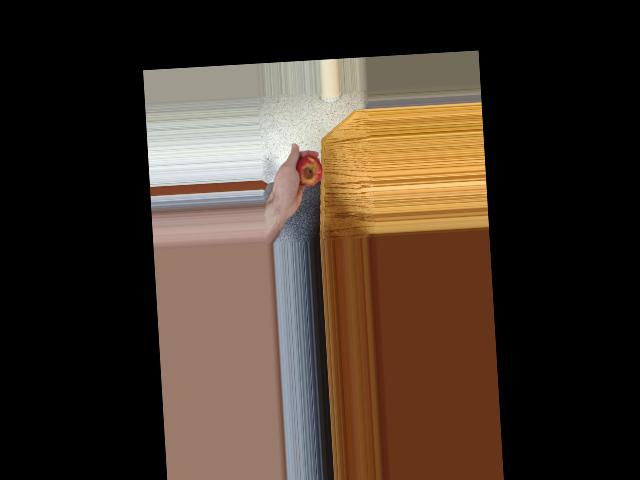apple: (291, 152, 324, 189)
